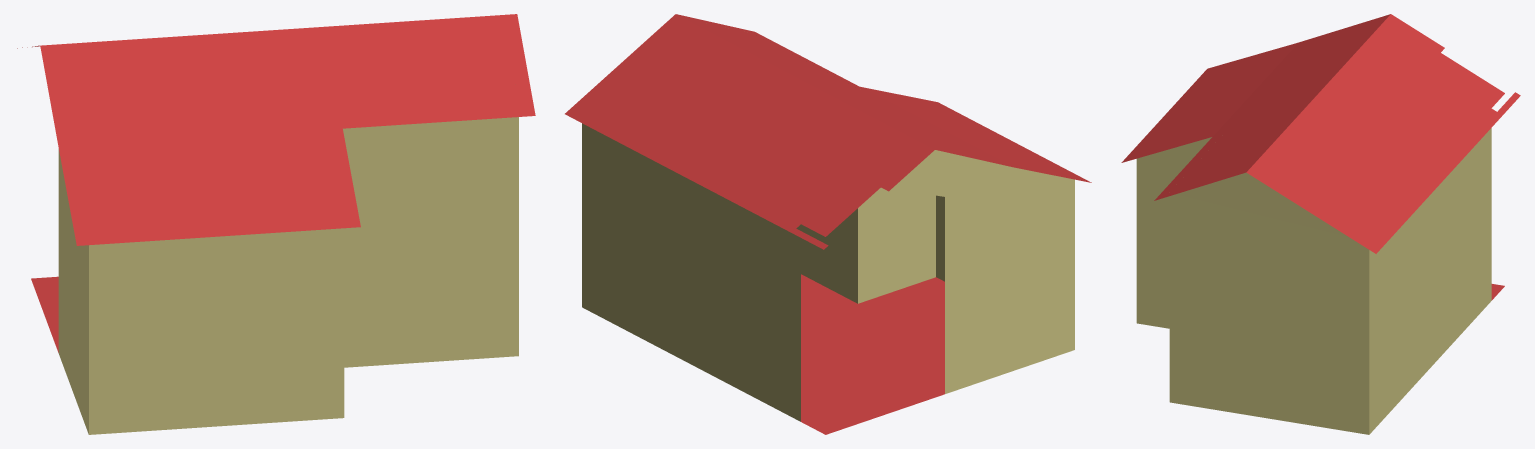
The picture shows the model from 3 angles, left to right: view 1: azimuth 30°, elevation 25°; view 2: azimuth 150°, elevation 25°; view 3: azimuth 270°, elevation 25°; orthographic projection. The views are drawn at different scales.
Size of the model in its own units: 20.56 by 16.57 by 11.33.
